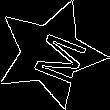M_W: (18, 23, 83, 85)
